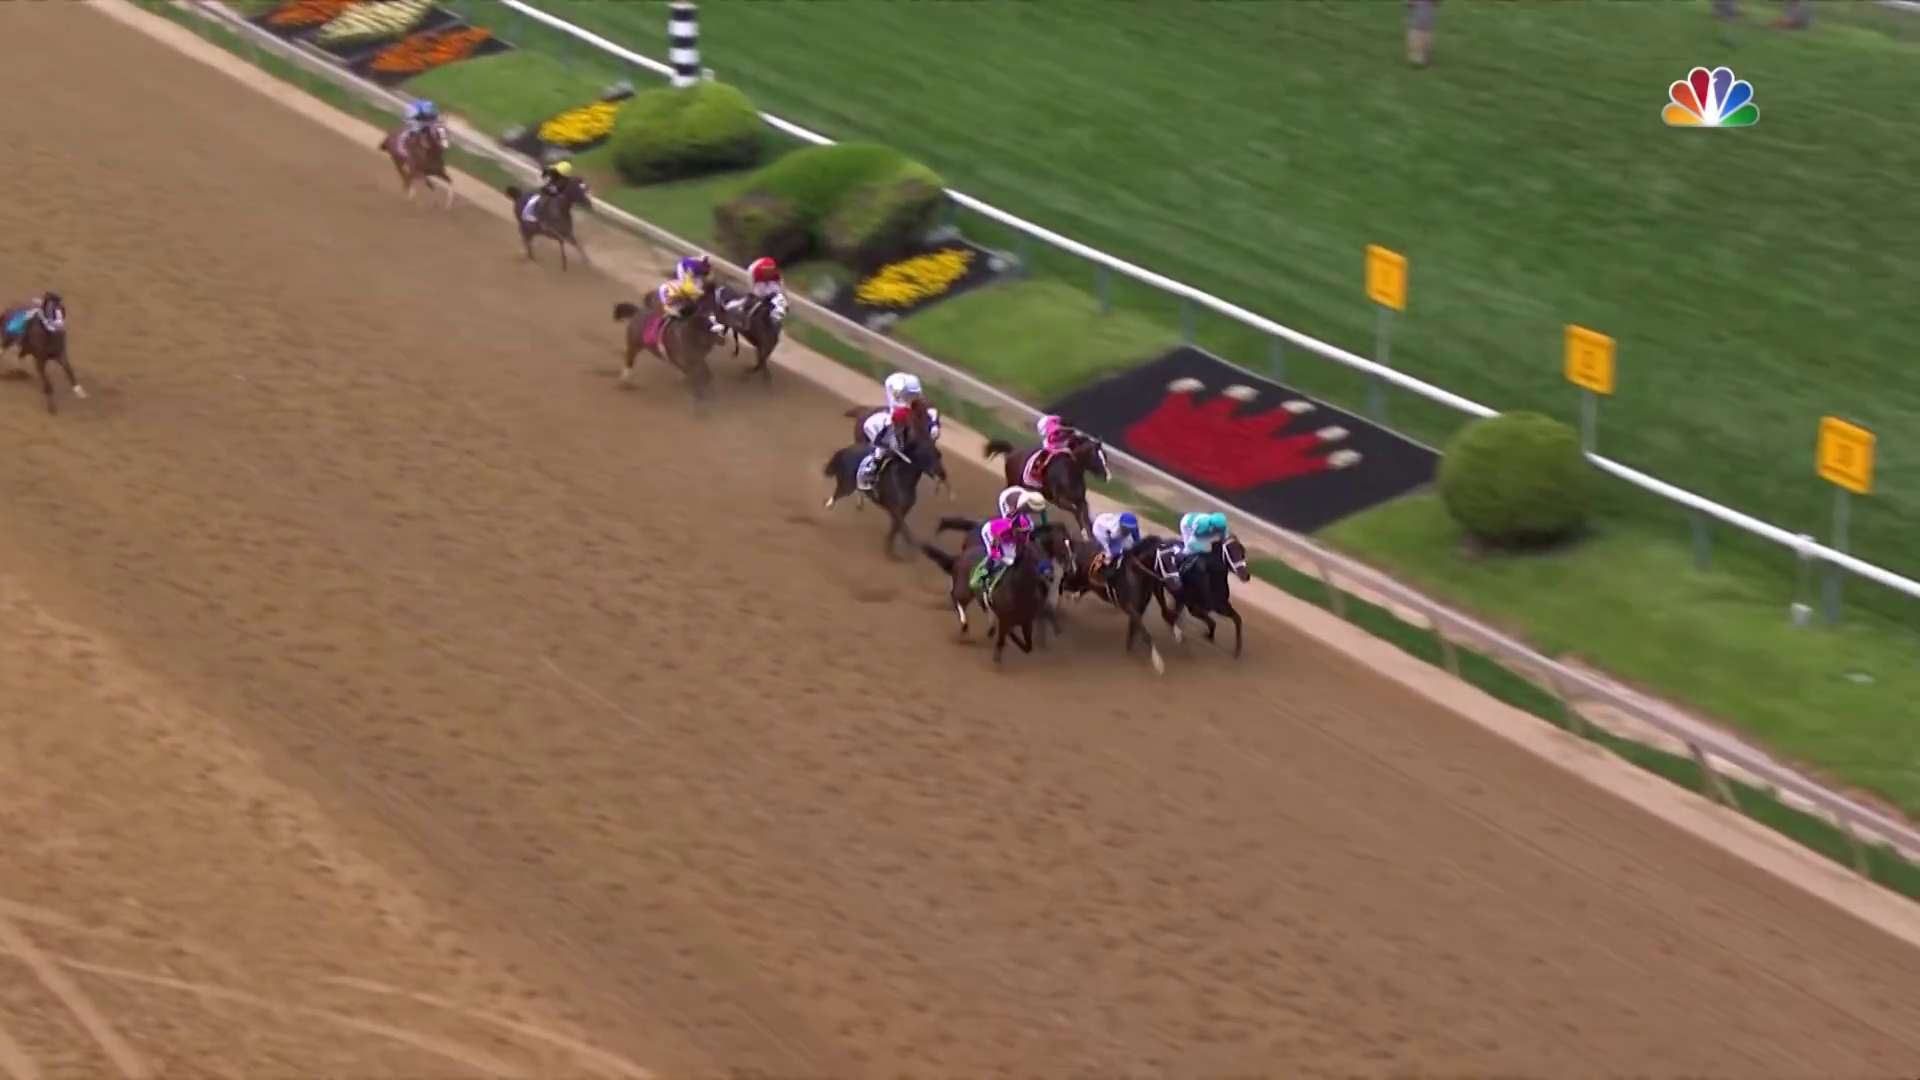jockey: (1095, 510, 1143, 580), (981, 513, 1026, 582), (1035, 411, 1087, 468), (1178, 512, 1228, 570), (858, 431, 909, 484), (658, 280, 703, 327), (674, 253, 717, 302), (537, 160, 572, 216), (409, 98, 442, 157), (746, 257, 783, 310), (887, 369, 926, 413)
